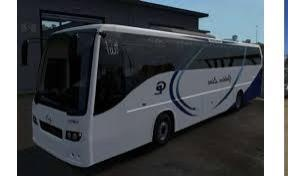bus: (30, 20, 264, 169)
